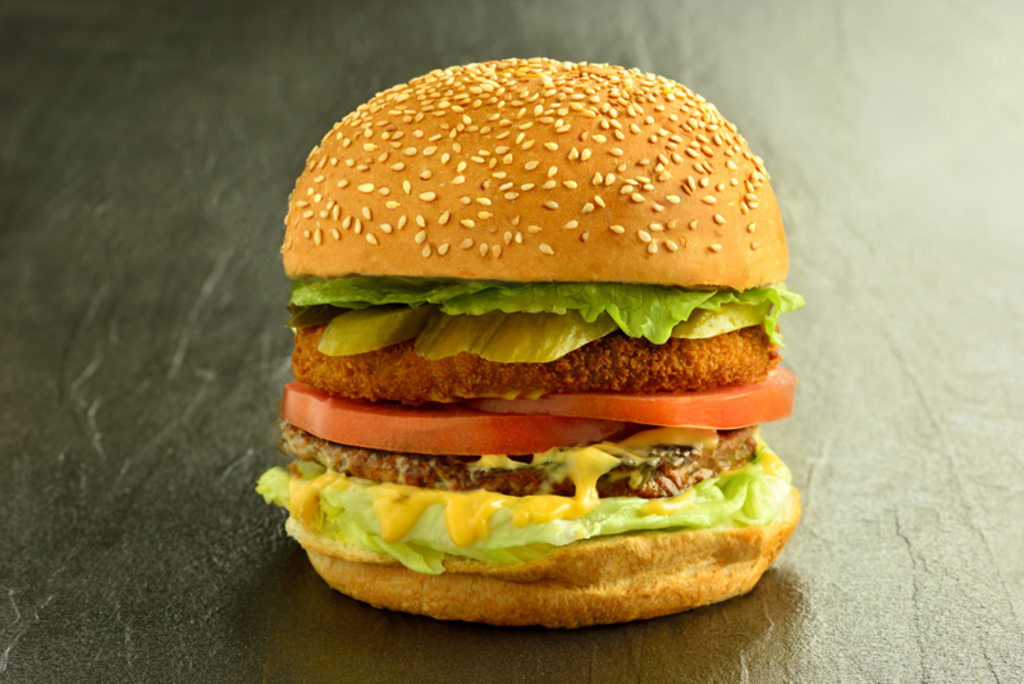Hamburger: (252, 60, 803, 627)
